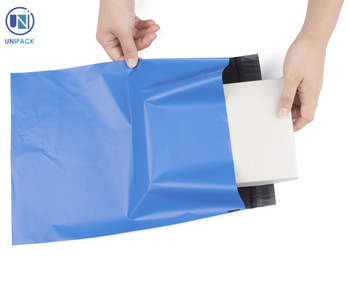塑料袋: (11, 54, 297, 244)
